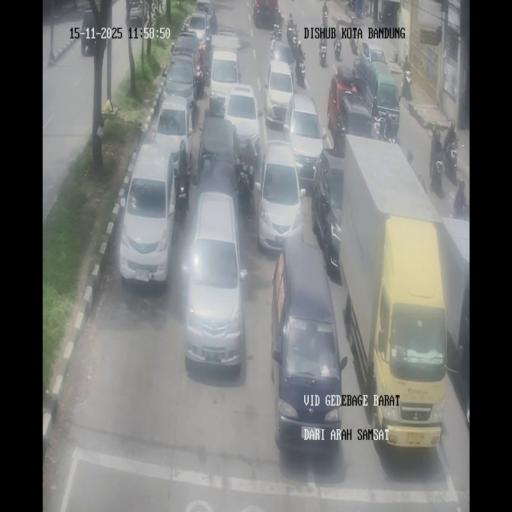car: (270, 238, 343, 452), (182, 190, 247, 371), (118, 143, 177, 286), (438, 226, 470, 434), (282, 92, 325, 187), (314, 148, 344, 278), (354, 57, 399, 139), (196, 112, 238, 185), (163, 49, 199, 117), (208, 46, 242, 116), (263, 56, 296, 128), (184, 10, 212, 50), (80, 9, 97, 56), (251, 0, 279, 27), (360, 41, 386, 66), (125, 0, 144, 26), (194, 0, 212, 15)
motorcycle: (236, 158, 254, 208), (174, 170, 190, 224), (443, 139, 458, 182), (400, 58, 412, 100), (430, 154, 443, 192), (201, 37, 213, 78), (450, 196, 469, 219), (294, 54, 306, 88), (270, 22, 282, 52), (382, 120, 396, 144), (349, 25, 359, 53), (286, 23, 297, 48), (286, 46, 296, 73), (370, 118, 382, 140), (150, 0, 162, 20), (319, 40, 327, 65), (209, 10, 217, 34), (334, 38, 342, 61), (361, 0, 369, 17), (322, 9, 328, 30), (346, 0, 354, 11), (378, 10, 383, 24)
truck: (336, 141, 458, 447)
